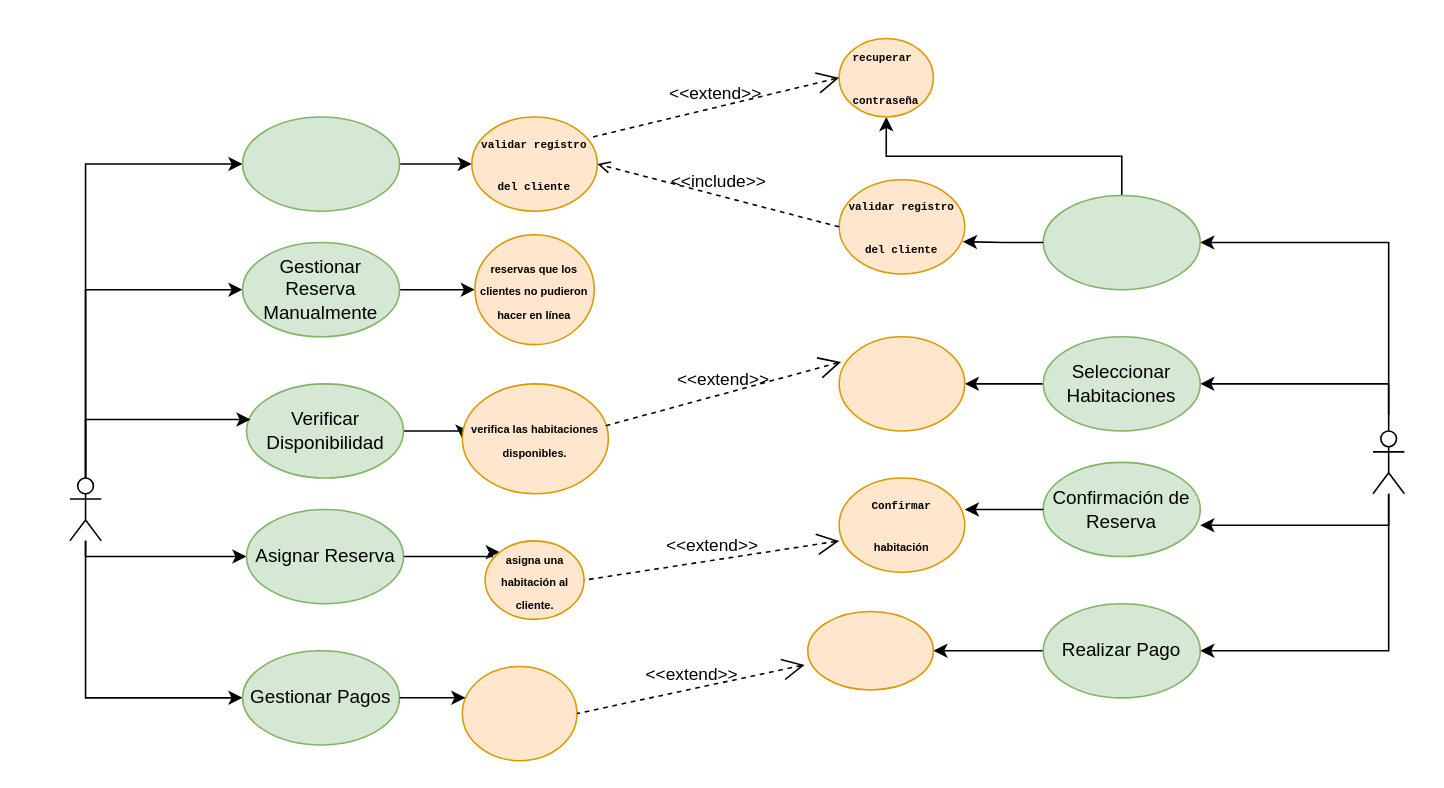
The diagram is 1444 pixels wide and 788 high, and some of its shapes have lost their labels. The shapes that lost their labels are listed below. From the top down, each one's centre as x and y in pixels, then its label:
At [320,163]: "Gestionar Registro".
At [1121,242]: "iniciar sesión o registarse".
At [901,383]: "Buscar habitacion".
At [1387,461]: "Cliente".
At [84,508]: "Recepcionista".
At [869,650]: "validar registro de reserva".
At [519,713]: "procesa los pagos a través del sistema de pagos.".
